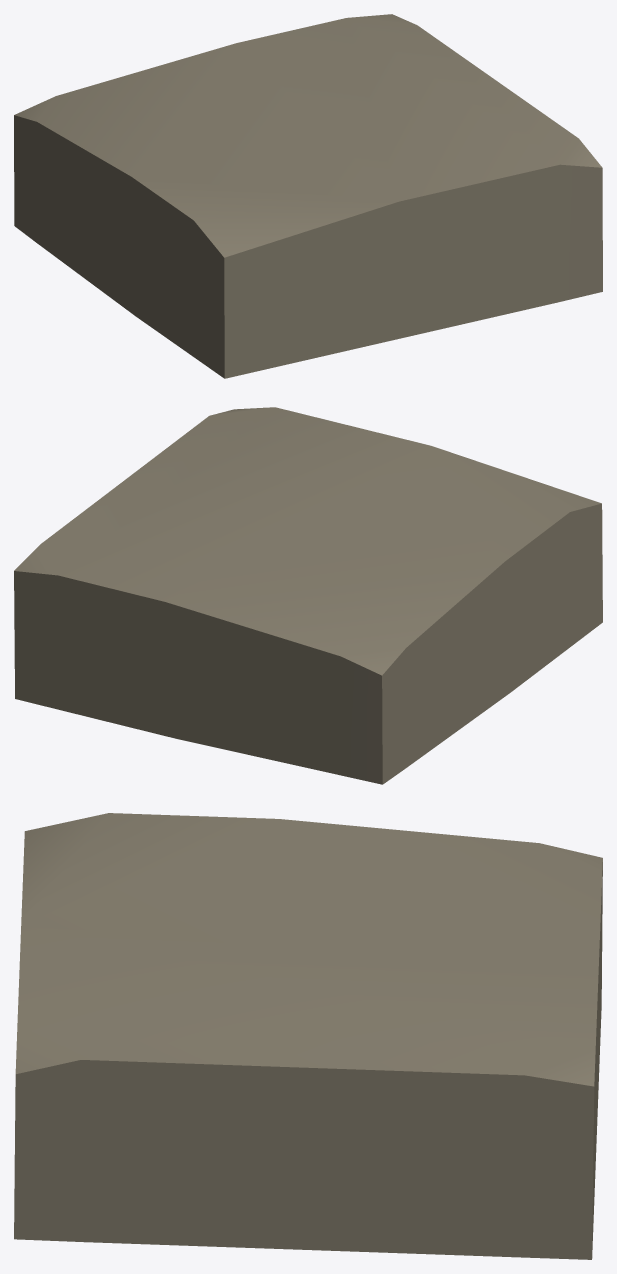
File: Dalle01.fbx
The picture shows the model from 3 angles, top to bottom: view 1: azimuth 30°, elevation 25°; view 2: azimuth 150°, elevation 25°; view 3: azimuth 270°, elevation 25°; orthographic projection. The views are drawn at different scales.
Visible parts, largest first — view 1: Dalle01; view 2: Dalle01; view 3: Dalle01.
Part boxes in pixels (<box>): Dalle01: <box>14,14,602,378</box>; Dalle01: <box>14,407,602,784</box>; Dalle01: <box>14,813,602,1259</box>.
Bounding box in the file's own units: 76.87 × 28.87 × 76.95.
